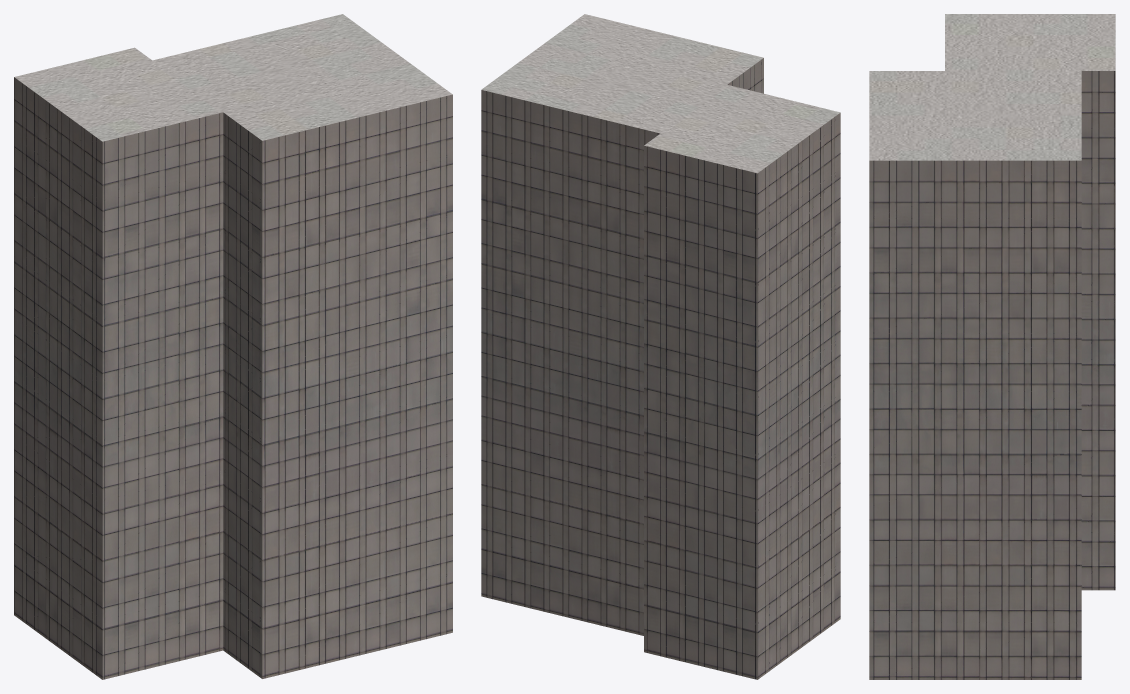
The model's file is building_10.glb.
3 renders of one model, left to right at view 1: azimuth 30°, elevation 25°; view 2: azimuth 150°, elevation 25°; view 3: azimuth 270°, elevation 25°, orthographic. The views are drawn at different scales.
Parts seen in each view (by area): view 1: building_017; view 2: building_017; view 3: building_017.
Boxes of the visible parts, x1,y1,x2,y2 form: building_017: (14,14,452,679); building_017: (481,14,840,679); building_017: (869,14,1115,679).
Size of the model in its own units: 157 by 260 by 112.
Materials: 2 (2 with a texture image).
